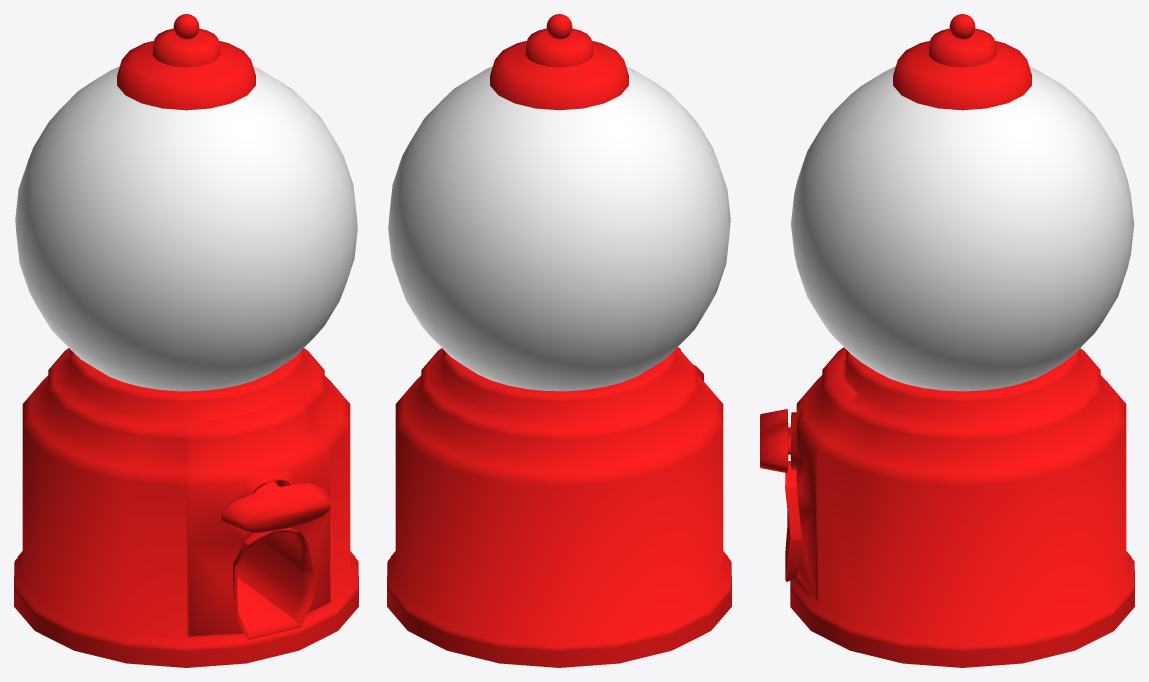
File: machine.FBX
The picture shows the model from 3 angles, left to right: view 1: azimuth 30°, elevation 25°; view 2: azimuth 150°, elevation 25°; view 3: azimuth 270°, elevation 25°; orthographic projection.
Parts seen in each view (by area): view 1: OilTank001, Sphere001, Object001, Sphere002; view 2: OilTank001, Sphere001, Object001, Sphere002; view 3: OilTank001, Sphere001, Object001.
Part boxes in pixels (x1,y1,x2,y2): OilTank001: (14, 348, 358, 667); Sphere001: (15, 66, 357, 391); Object001: (117, 28, 255, 110); Sphere002: (173, 14, 199, 39); OilTank001: (387, 347, 731, 667); Sphere001: (388, 66, 730, 391); Object001: (490, 28, 628, 110); Sphere002: (546, 14, 572, 39); OilTank001: (760, 347, 1134, 667); Sphere001: (791, 66, 1134, 391); Object001: (893, 28, 1031, 110).
Bounding box in the file's own units: 168 × 307 × 180.
